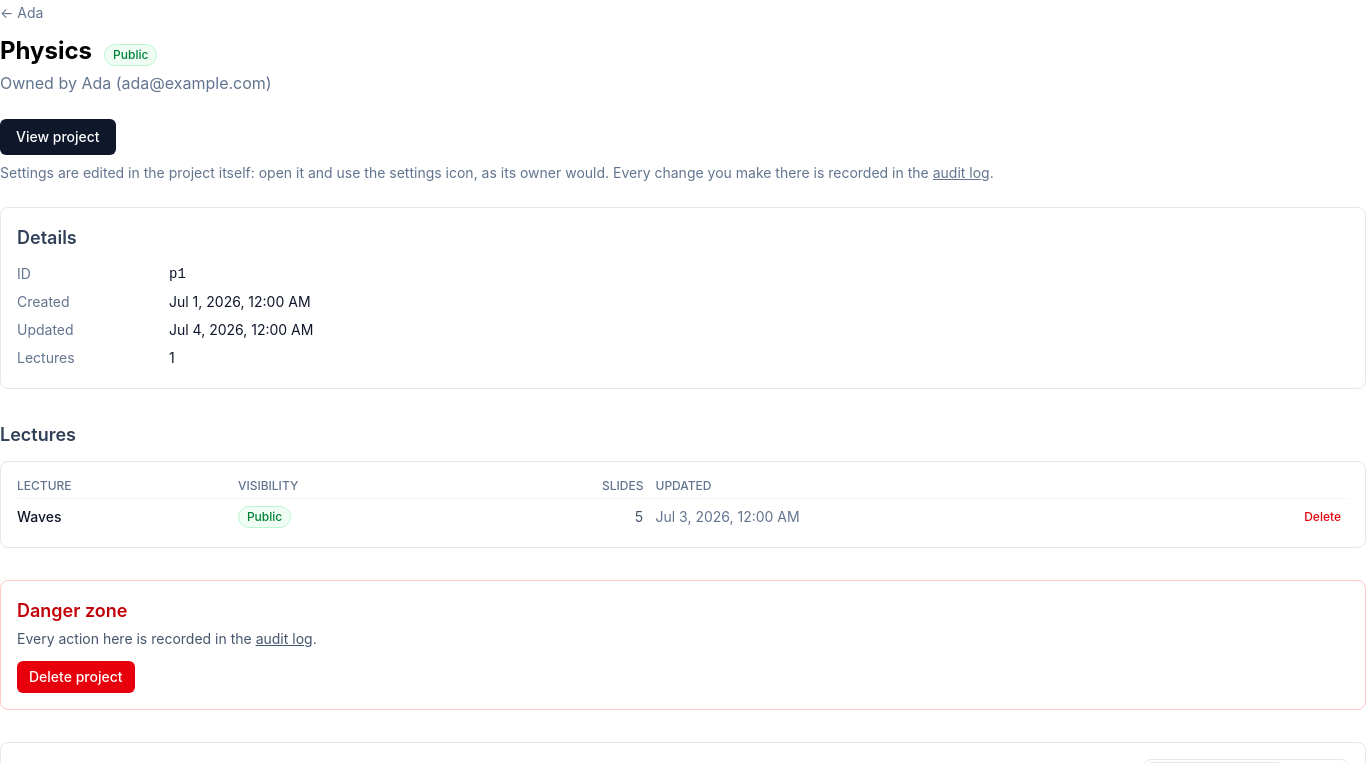
Test: AdminProjectPage › does nothing when the confirm dialog is cancelled
Expected: the heading "Physics" is shown, [0,35,92,67]
Step 1. Click the button "Delete project" → [76, 677], box [17,661,134,693]
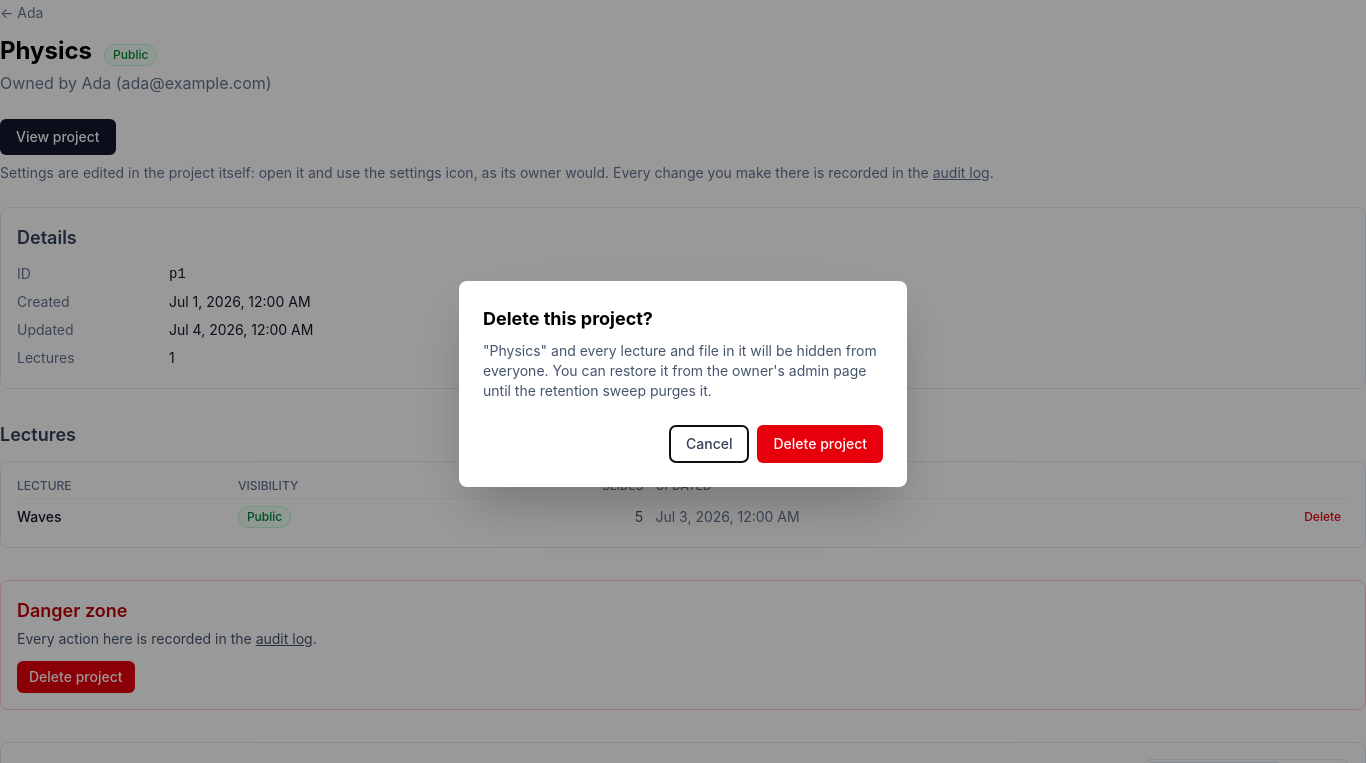
Step 2. Click the button "Cancel" → [709, 444], box [669,425,750,463]
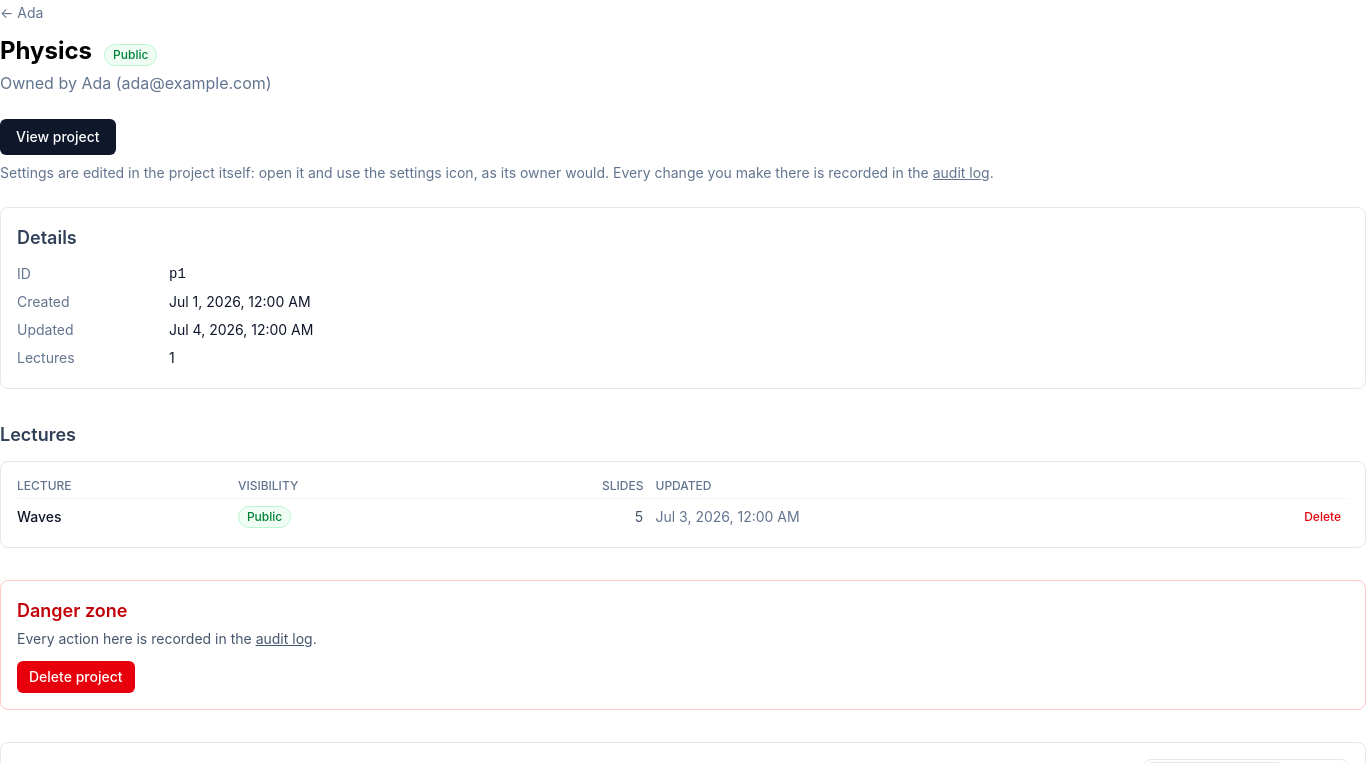
Expected: the dialog is gone
